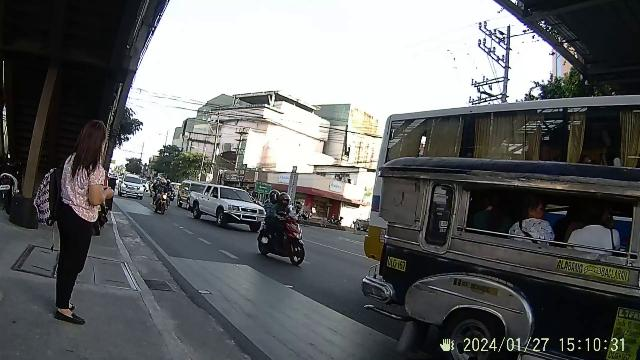motorcycle: (248, 182, 324, 278), (149, 173, 183, 215)
utility_post: (464, 14, 516, 104)
